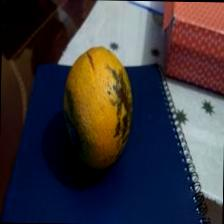Orange Rotten: (52, 36, 144, 180)
